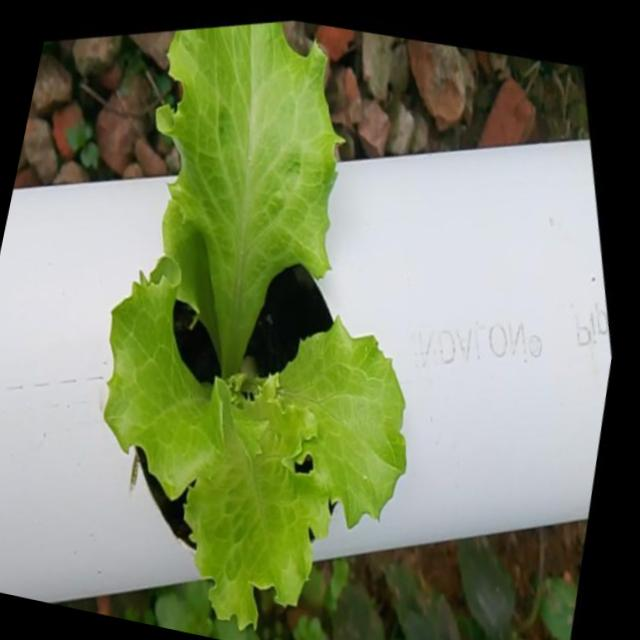Baby: (113, 21, 412, 634)
